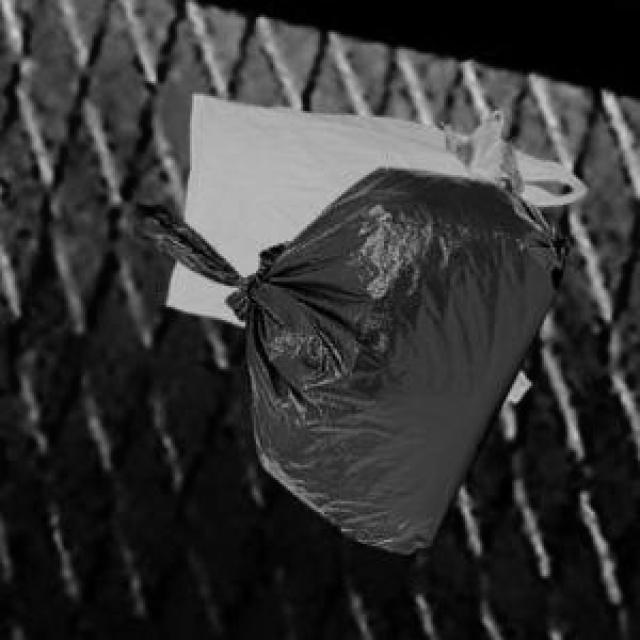miscellaneous trash: (130, 164, 565, 550)
